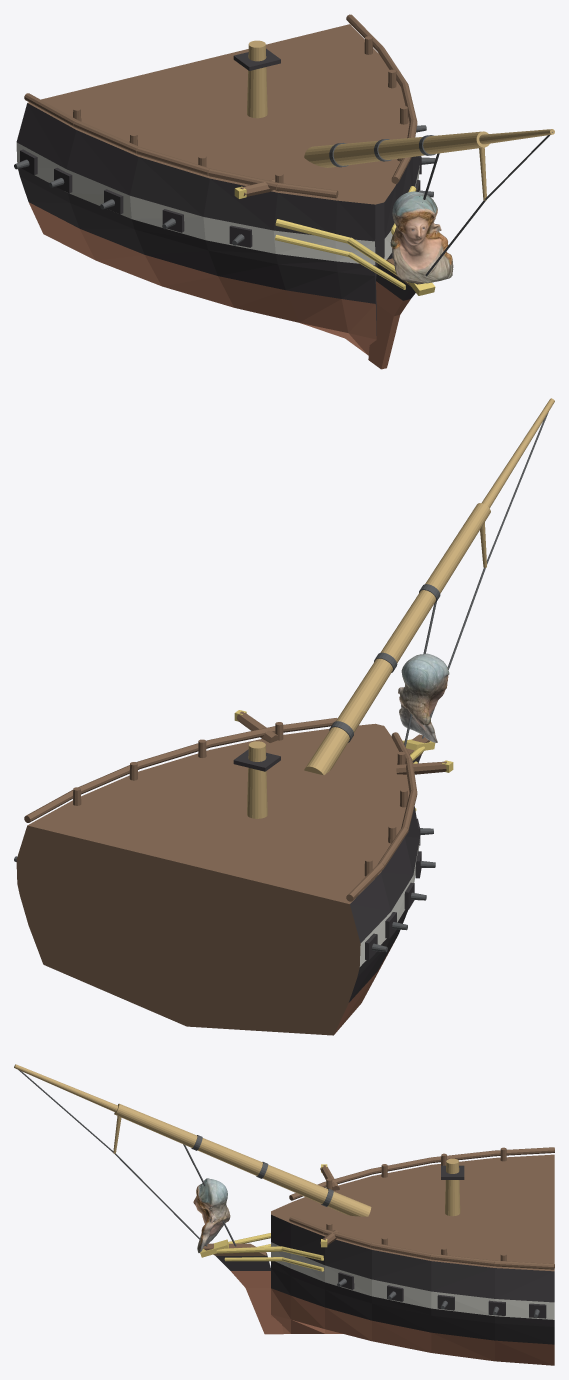
File: sybille.glb
The picture shows the model from 3 angles, top to bottom: view 1: azimuth 30°, elevation 25°; view 2: azimuth 150°, elevation 25°; view 3: azimuth 270°, elevation 25°; orthographic projection. The views are drawn at different scales.
Visible parts, largest first — view 1: sybille_ParentBow, sybille_Figurehead; view 2: sybille_ParentBow, sybille_Figurehead; view 3: sybille_ParentBow, sybille_Figurehead.
Boxes of the visible parts, left/top/right/bottom form: sybille_ParentBow: left=14, top=14, right=554, bottom=369; sybille_Figurehead: left=390, top=191, right=453, bottom=284; sybille_ParentBow: left=14, top=398, right=554, bottom=1035; sybille_Figurehead: left=398, top=653, right=449, bottom=742; sybille_ParentBow: left=14, top=1064, right=554, bottom=1365; sybille_Figurehead: left=193, top=1178, right=230, bottom=1252.
Bounding box in the file's own units: 14.08 × 13.12 × 23.93.
Materials: 2 (2 with a texture image).
